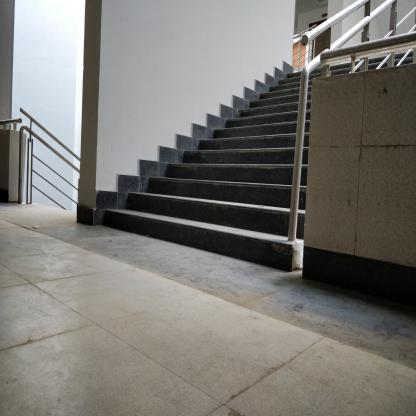stairs: (216, 128, 288, 272)
